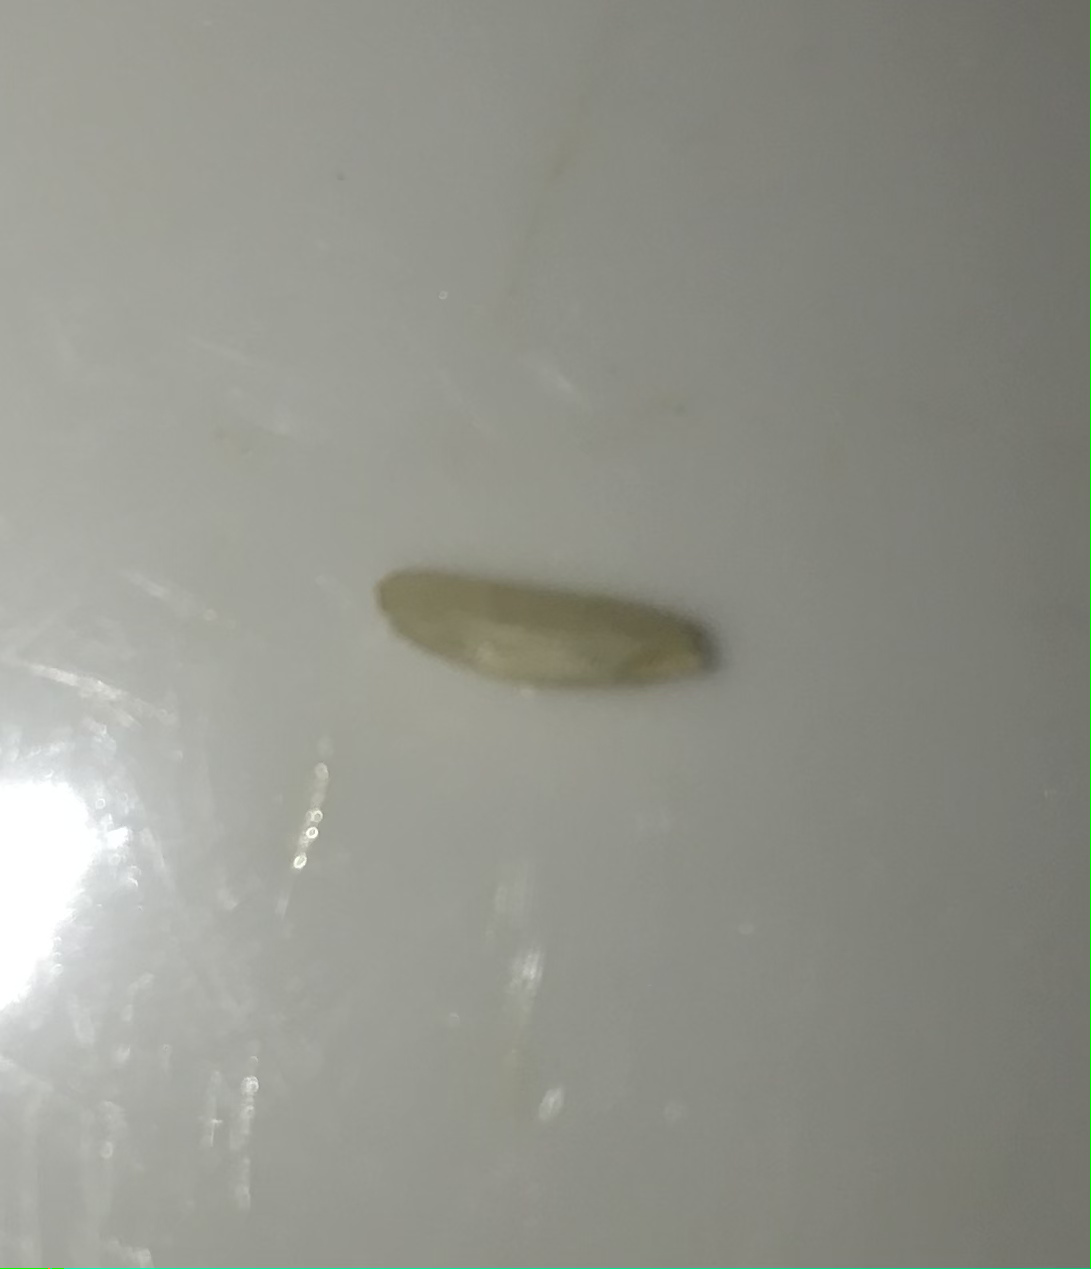Gao Lut Trang: (381, 534, 720, 711)
